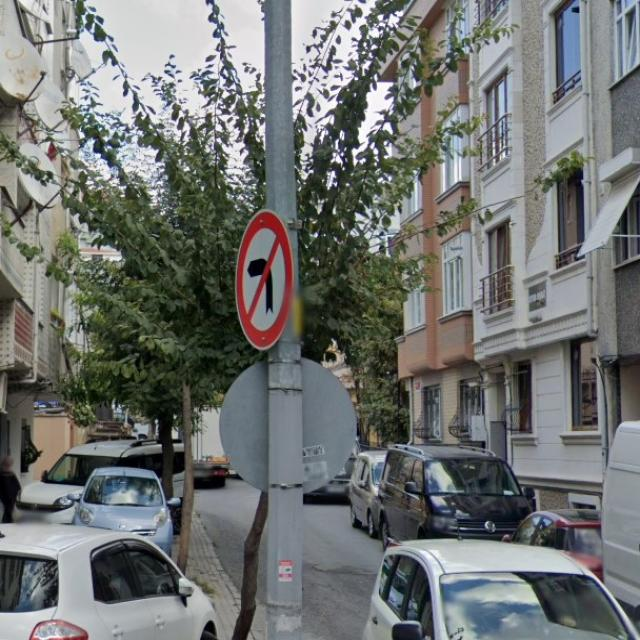soladonulmez: (234, 209, 294, 351)
